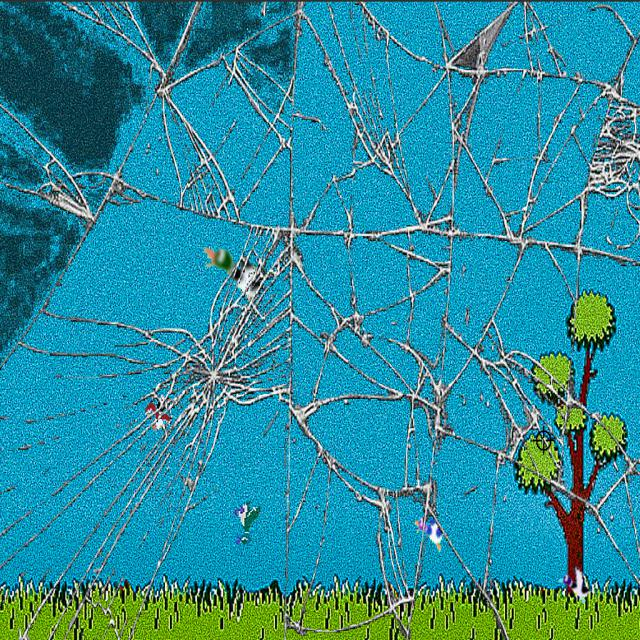duck: (200, 239, 274, 310), (556, 561, 602, 606), (412, 511, 453, 556)
falling_duck: (229, 494, 263, 552), (144, 388, 174, 437)
